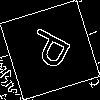P: (25, 25, 81, 76)
